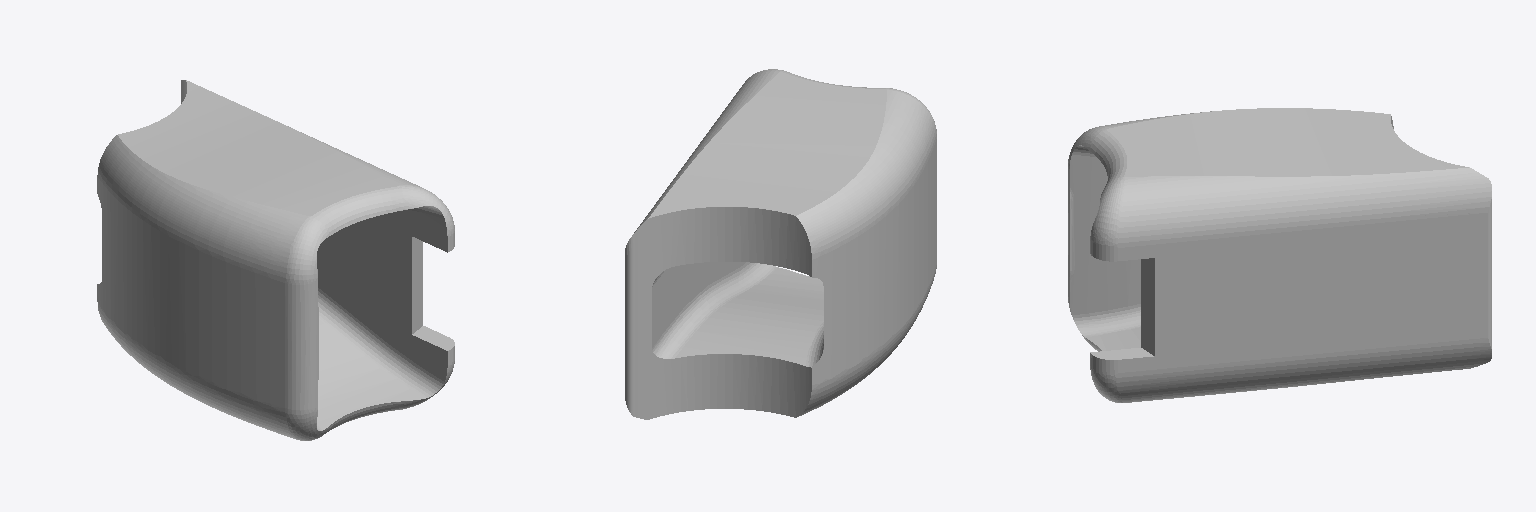
File: right_visual_middle_pp_skin_mesh_mesh.obj
The picture shows the model from 3 angles: view 1: azimuth 30°, elevation 25°; view 2: azimuth 150°, elevation 25°; view 3: azimuth 270°, elevation 25°; orthographic projection.
Bounding box in the file's own units: 0.0222 × 0.021 × 0.0363.